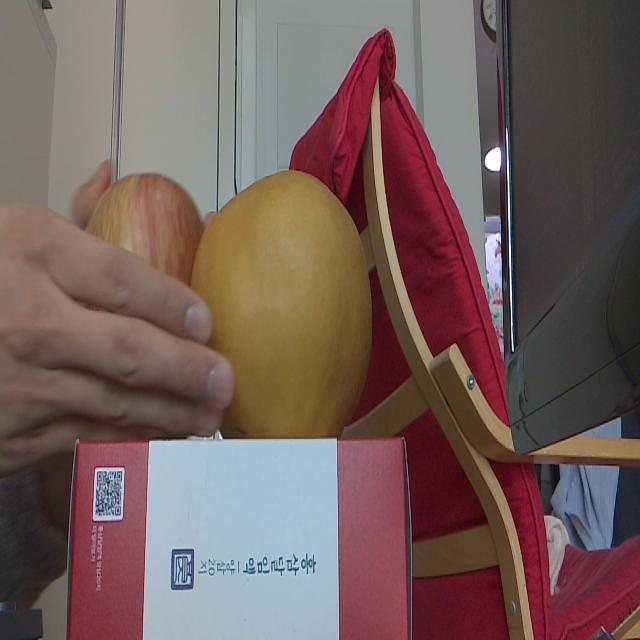pear: (203, 175, 374, 437)
